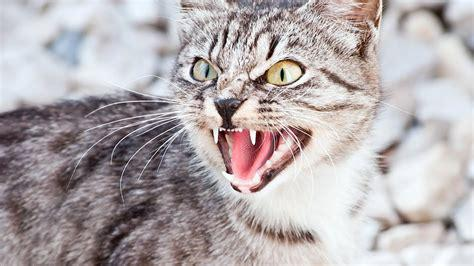cat: (1, 1, 383, 266)
